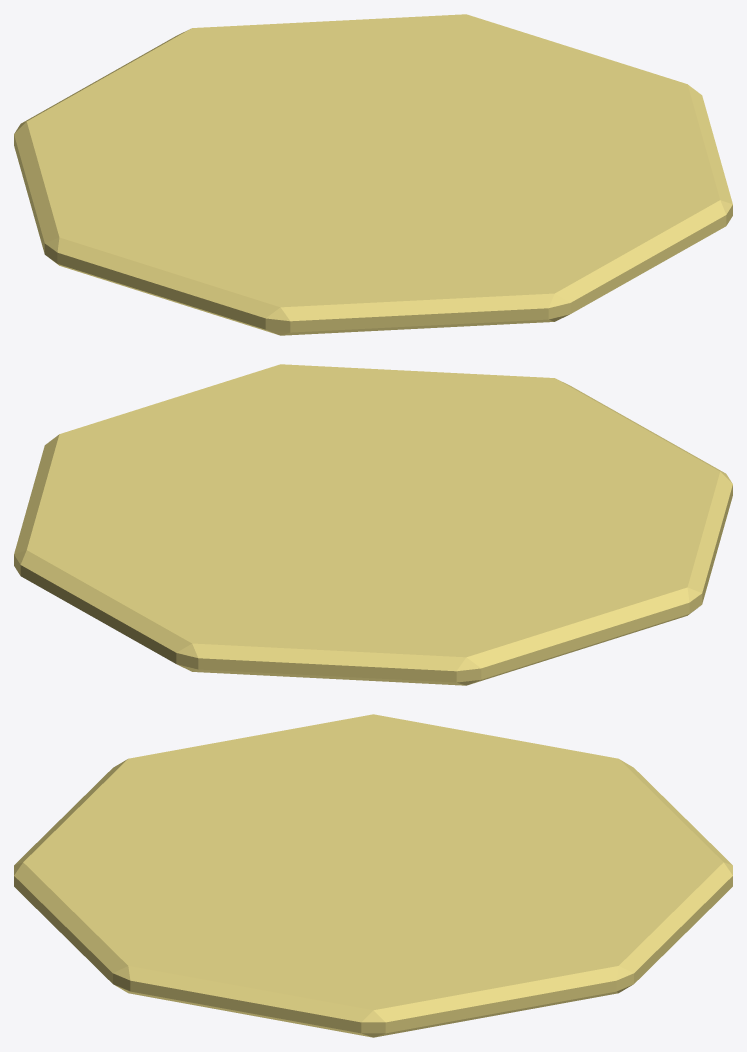
File: Omelette.fbx
3 renders of one model, top to bottom at view 1: azimuth 30°, elevation 25°; view 2: azimuth 150°, elevation 25°; view 3: azimuth 270°, elevation 25°, orthographic. The views are drawn at different scales.
Parts seen in each view (by area): view 1: OmeletteRaw; view 2: OmeletteRaw; view 3: OmeletteRaw.
Part boxes in pixels (<box>): OmeletteRaw: <box>14,14,732,335</box>; OmeletteRaw: <box>14,364,732,685</box>; OmeletteRaw: <box>14,714,732,1037</box>.
Size of the model in its own units: 197 by 8.29 by 197.
